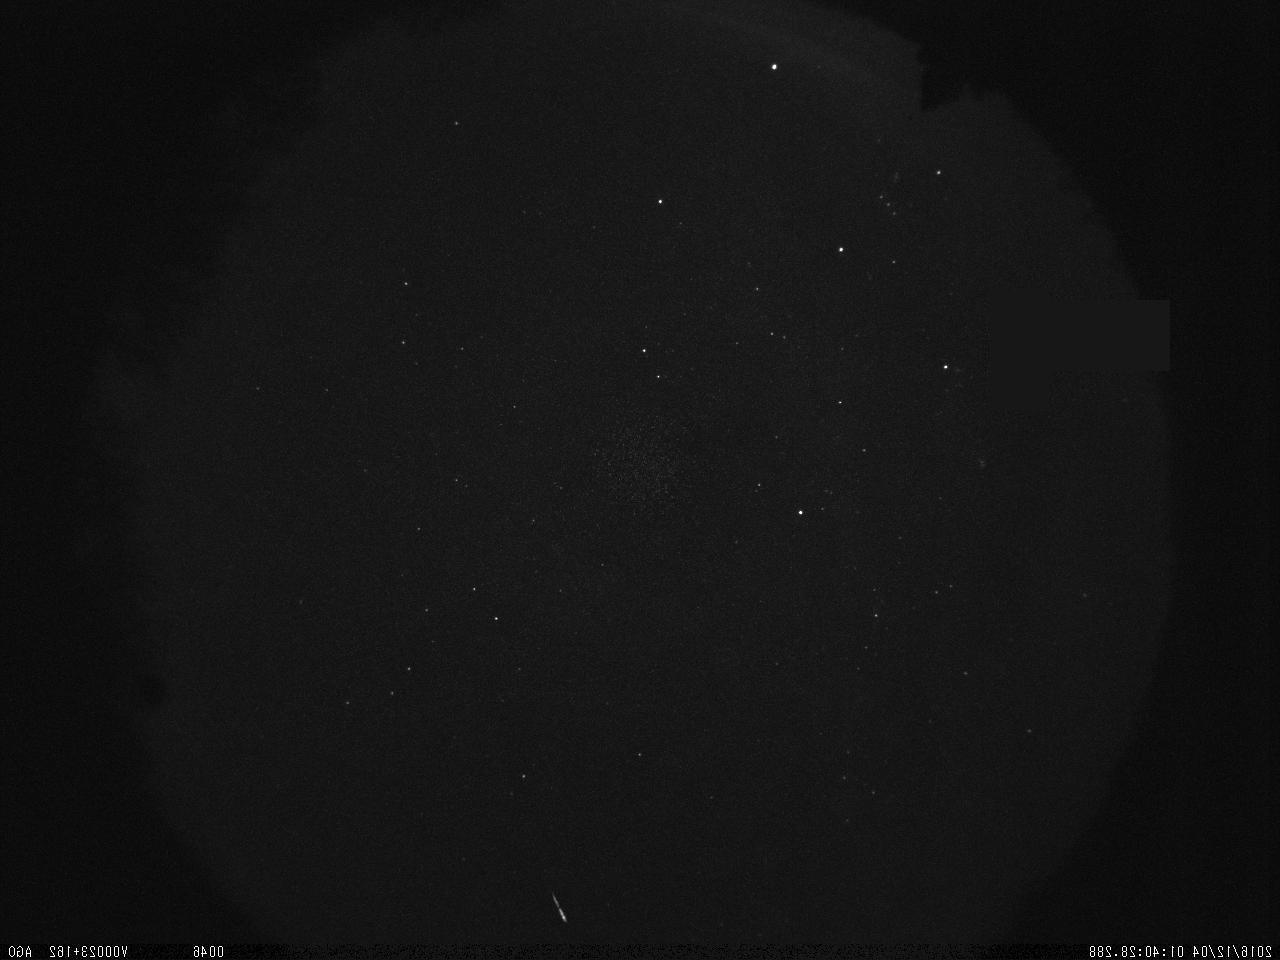meteor: (520, 888, 600, 930)
